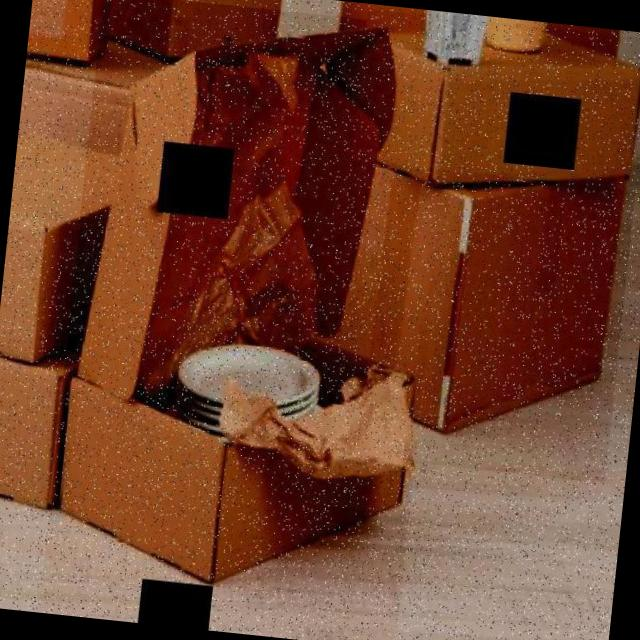box: (38, 0, 459, 640), (253, 121, 638, 482), (351, 8, 640, 190)
